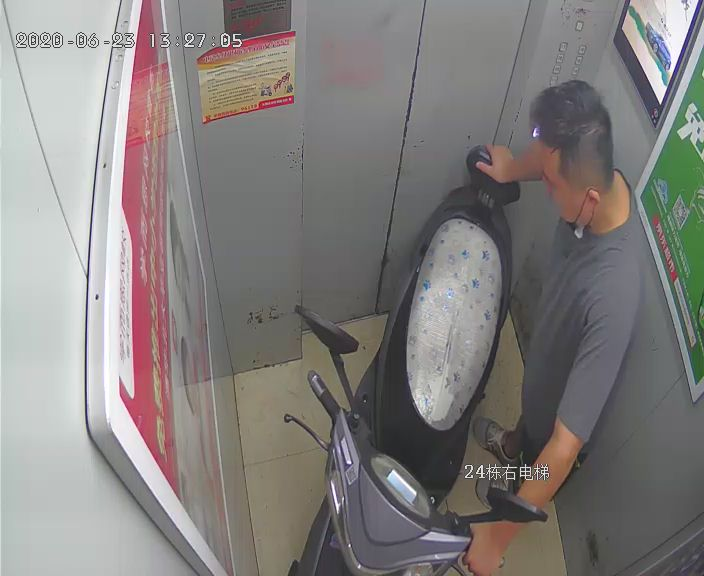Electric-bicycle: (286, 147, 543, 576)
